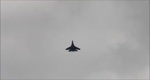maybay_muctieu: (66, 39, 81, 54)
